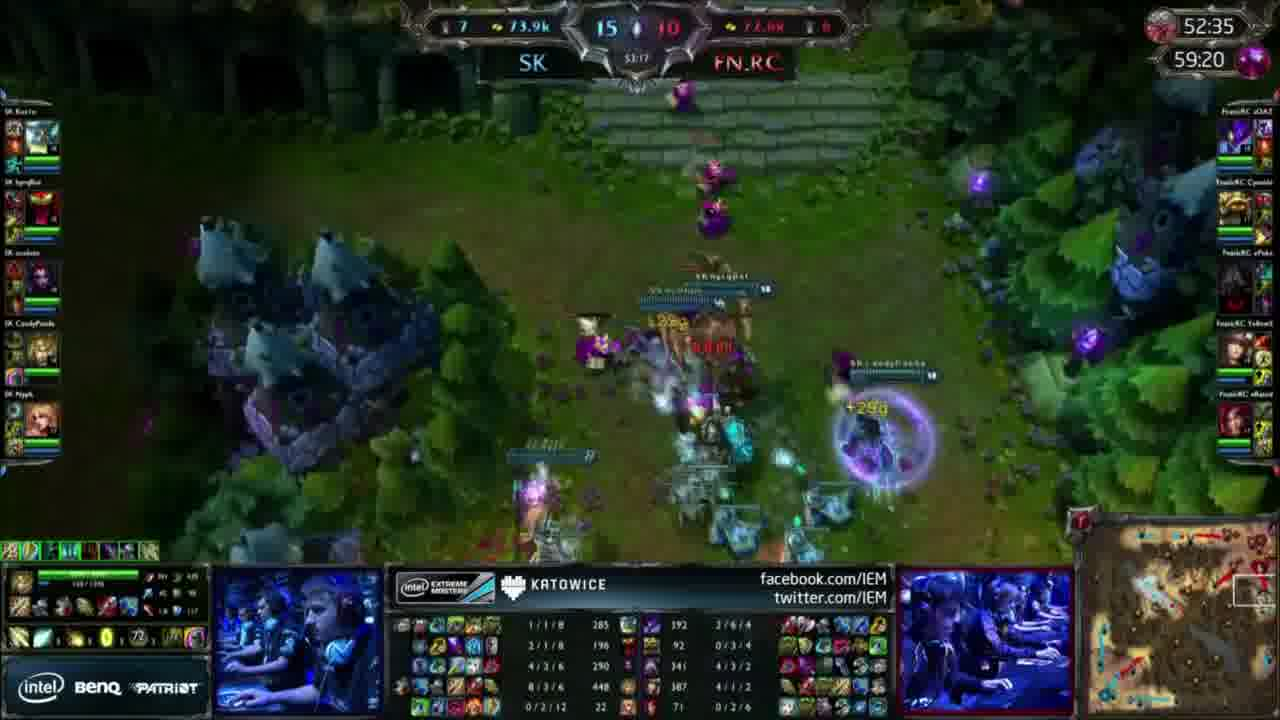bar: (841, 366, 941, 388), (638, 293, 730, 314), (500, 447, 602, 464), (690, 280, 776, 299)
